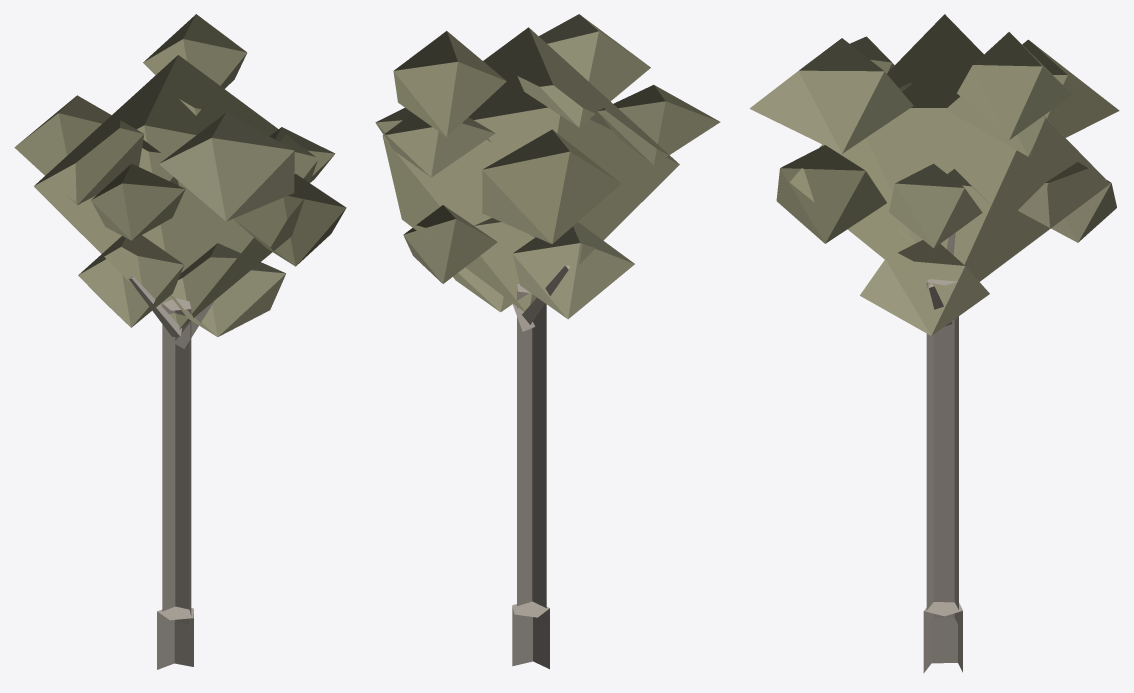
File: tree.temp.birch__winter.glb
The picture shows the model from 3 angles, left to right: view 1: azimuth 30°, elevation 25°; view 2: azimuth 150°, elevation 25°; view 3: azimuth 270°, elevation 25°; orthographic projection. The views are drawn at different scales.
Parts seen in each view (by area): view 1: tree.temp.birch__winter; view 2: tree.temp.birch__winter; view 3: tree.temp.birch__winter.
Part boxes in pixels (<box>): tree.temp.birch__winter: <box>14,14,346,669</box>; tree.temp.birch__winter: <box>375,14,720,669</box>; tree.temp.birch__winter: <box>749,14,1119,673</box>.
Bounding box in the file's own units: 7.2 × 15.29 × 7.73.
